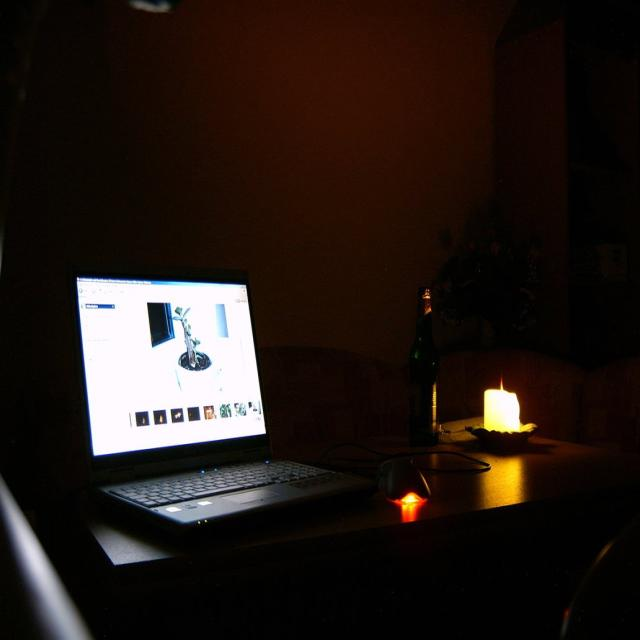Bottle: (404, 283, 448, 437)
